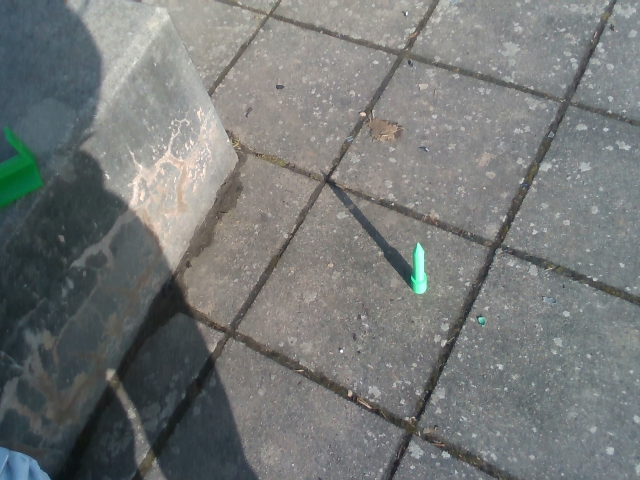Probe: (405, 233, 433, 301)
